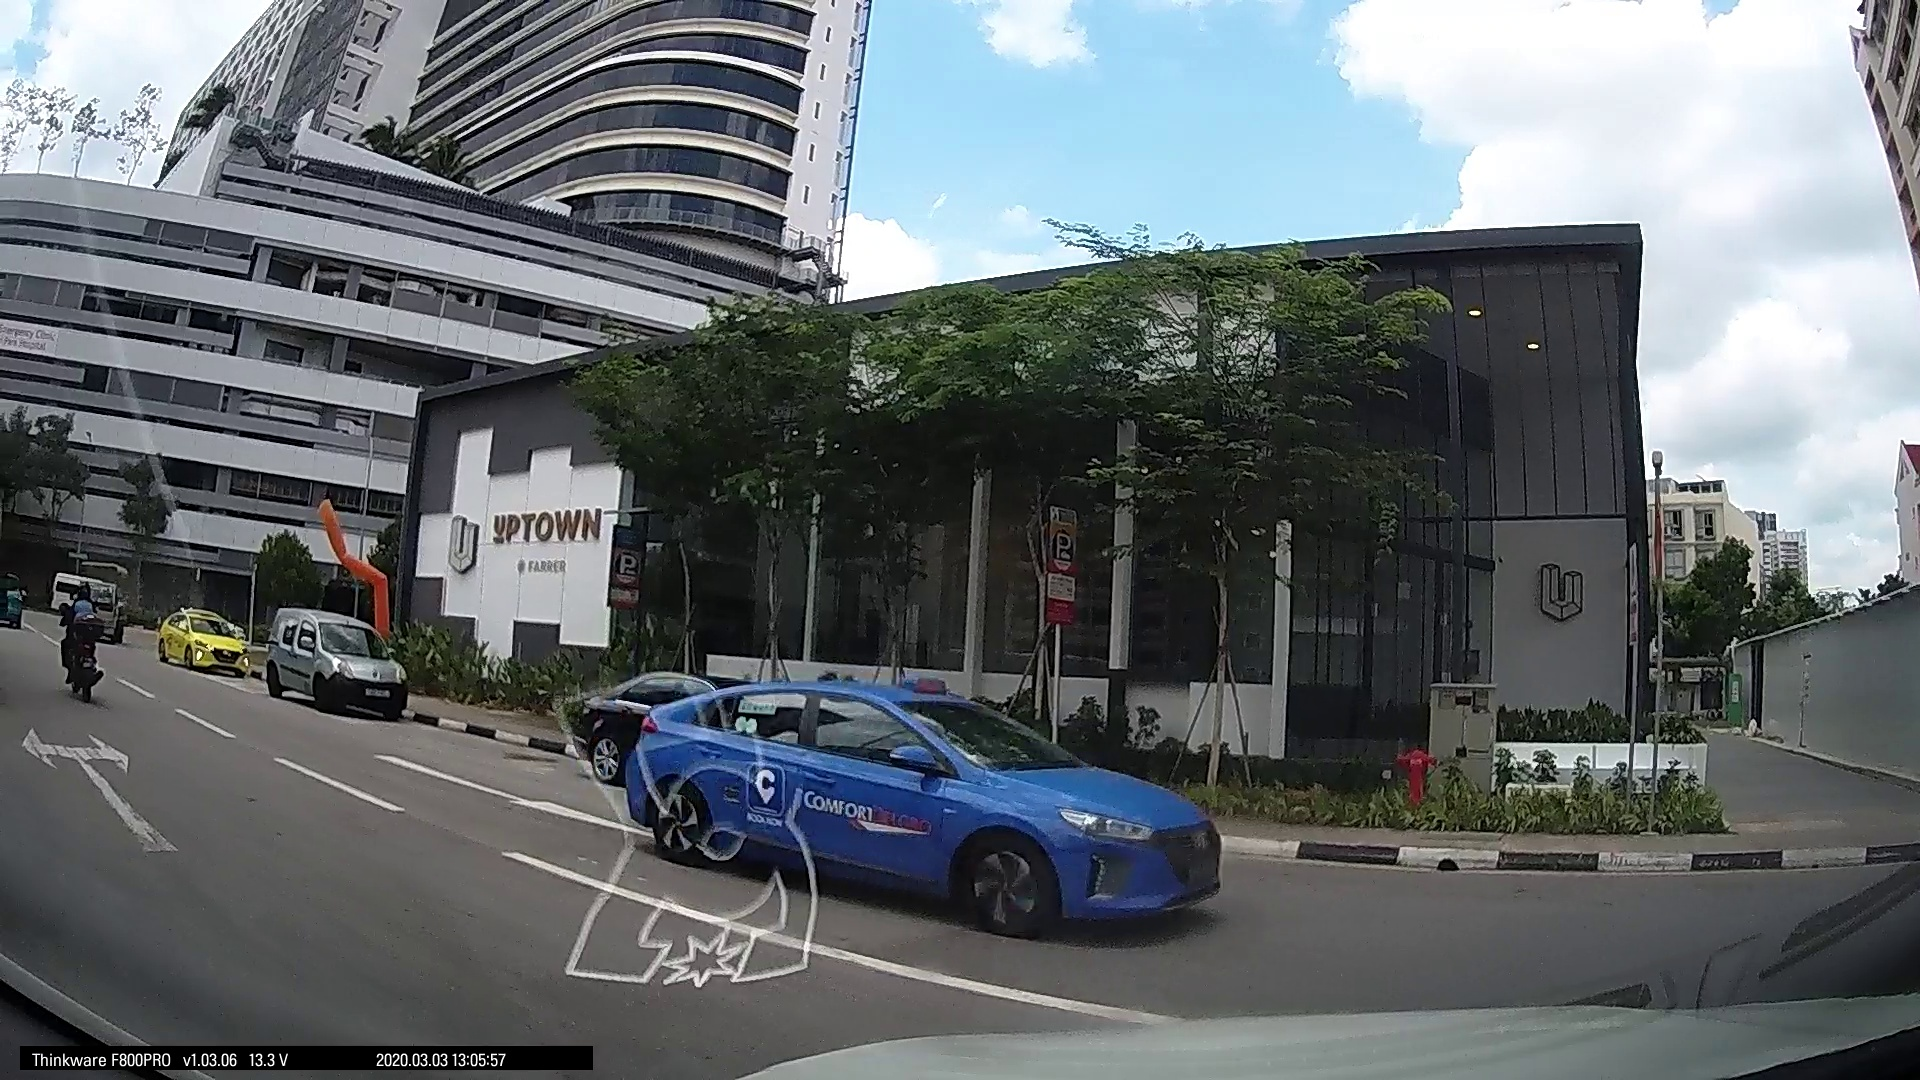Heavy Vehicle: (79, 477, 820, 897), (847, 559, 948, 753), (1199, 640, 1265, 708)
Light Vehicle: (1408, 680, 1561, 778), (1352, 669, 1436, 748)
